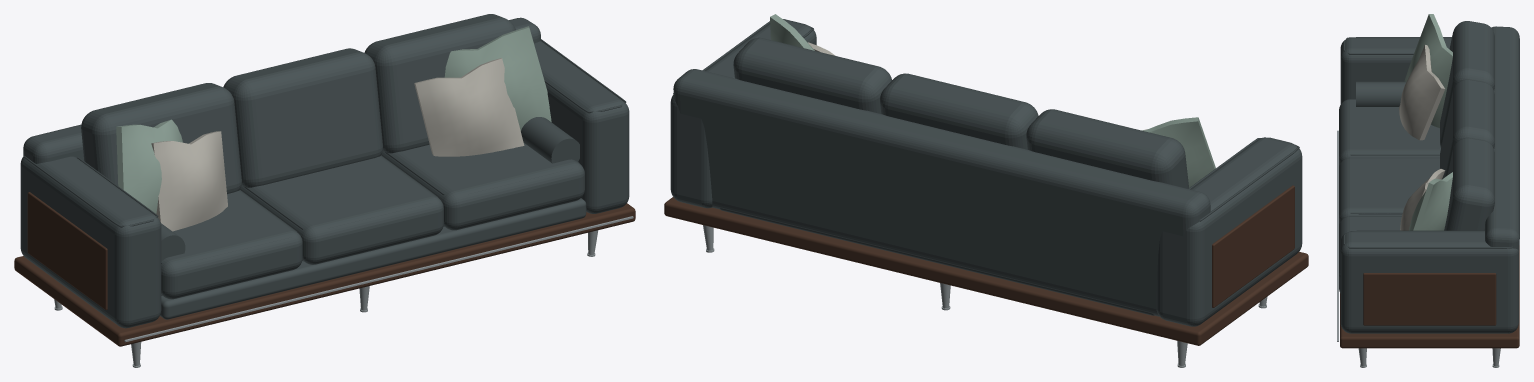
The model's file is milano-graphite-3.glb.
3 views of the same model, side by side, from view 1: azimuth 30°, elevation 25°; view 2: azimuth 150°, elevation 25°; view 3: azimuth 270°, elevation 25° (orthographic). The views are drawn at different scales.
Size of the model in its own units: 2.2 by 0.8344 by 0.7932.
